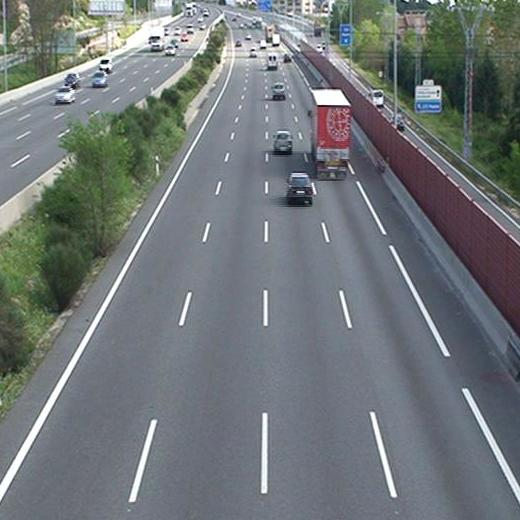car: (287, 173, 313, 203), (273, 131, 292, 153), (271, 82, 287, 100), (283, 53, 292, 63)
truck: (308, 88, 350, 179)
van: (267, 52, 280, 71)
